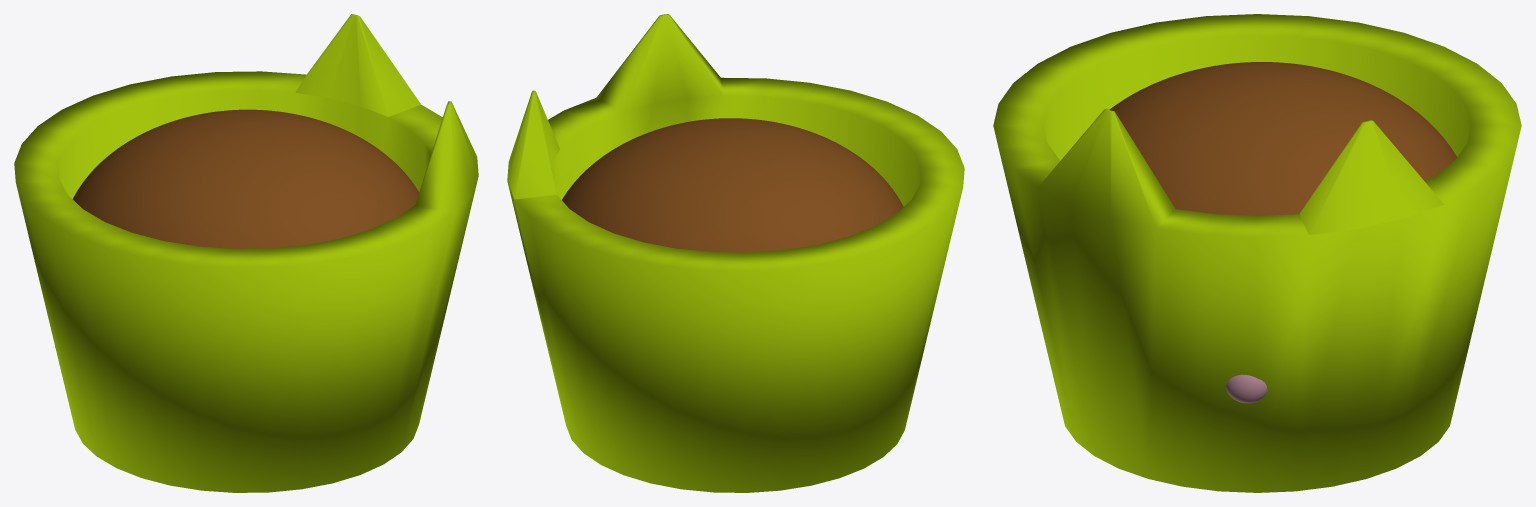
The model's file is MacetaPrimavera3.fbx.
The picture shows the model from 3 angles, left to right: view 1: azimuth 30°, elevation 25°; view 2: azimuth 150°, elevation 25°; view 3: azimuth 270°, elevation 25°; orthographic projection. The views are drawn at different scales.
Visible parts, largest first — view 1: Circle.013, Sphere.013; view 2: Circle.013, Sphere.013; view 3: Circle.013, Sphere.013, Sphere.016.
Boxes of the visible parts, <box> form: Circle.013: <box>14,14,478,492</box>; Sphere.013: <box>72,109,419,248</box>; Circle.013: <box>507,14,964,492</box>; Sphere.013: <box>562,118,903,252</box>; Circle.013: <box>993,14,1521,492</box>; Sphere.013: <box>1109,62,1456,215</box>; Sphere.016: <box>1226,374,1267,403</box>.
Bounding box in the file's own units: 45.4 × 35.61 × 45.4.
